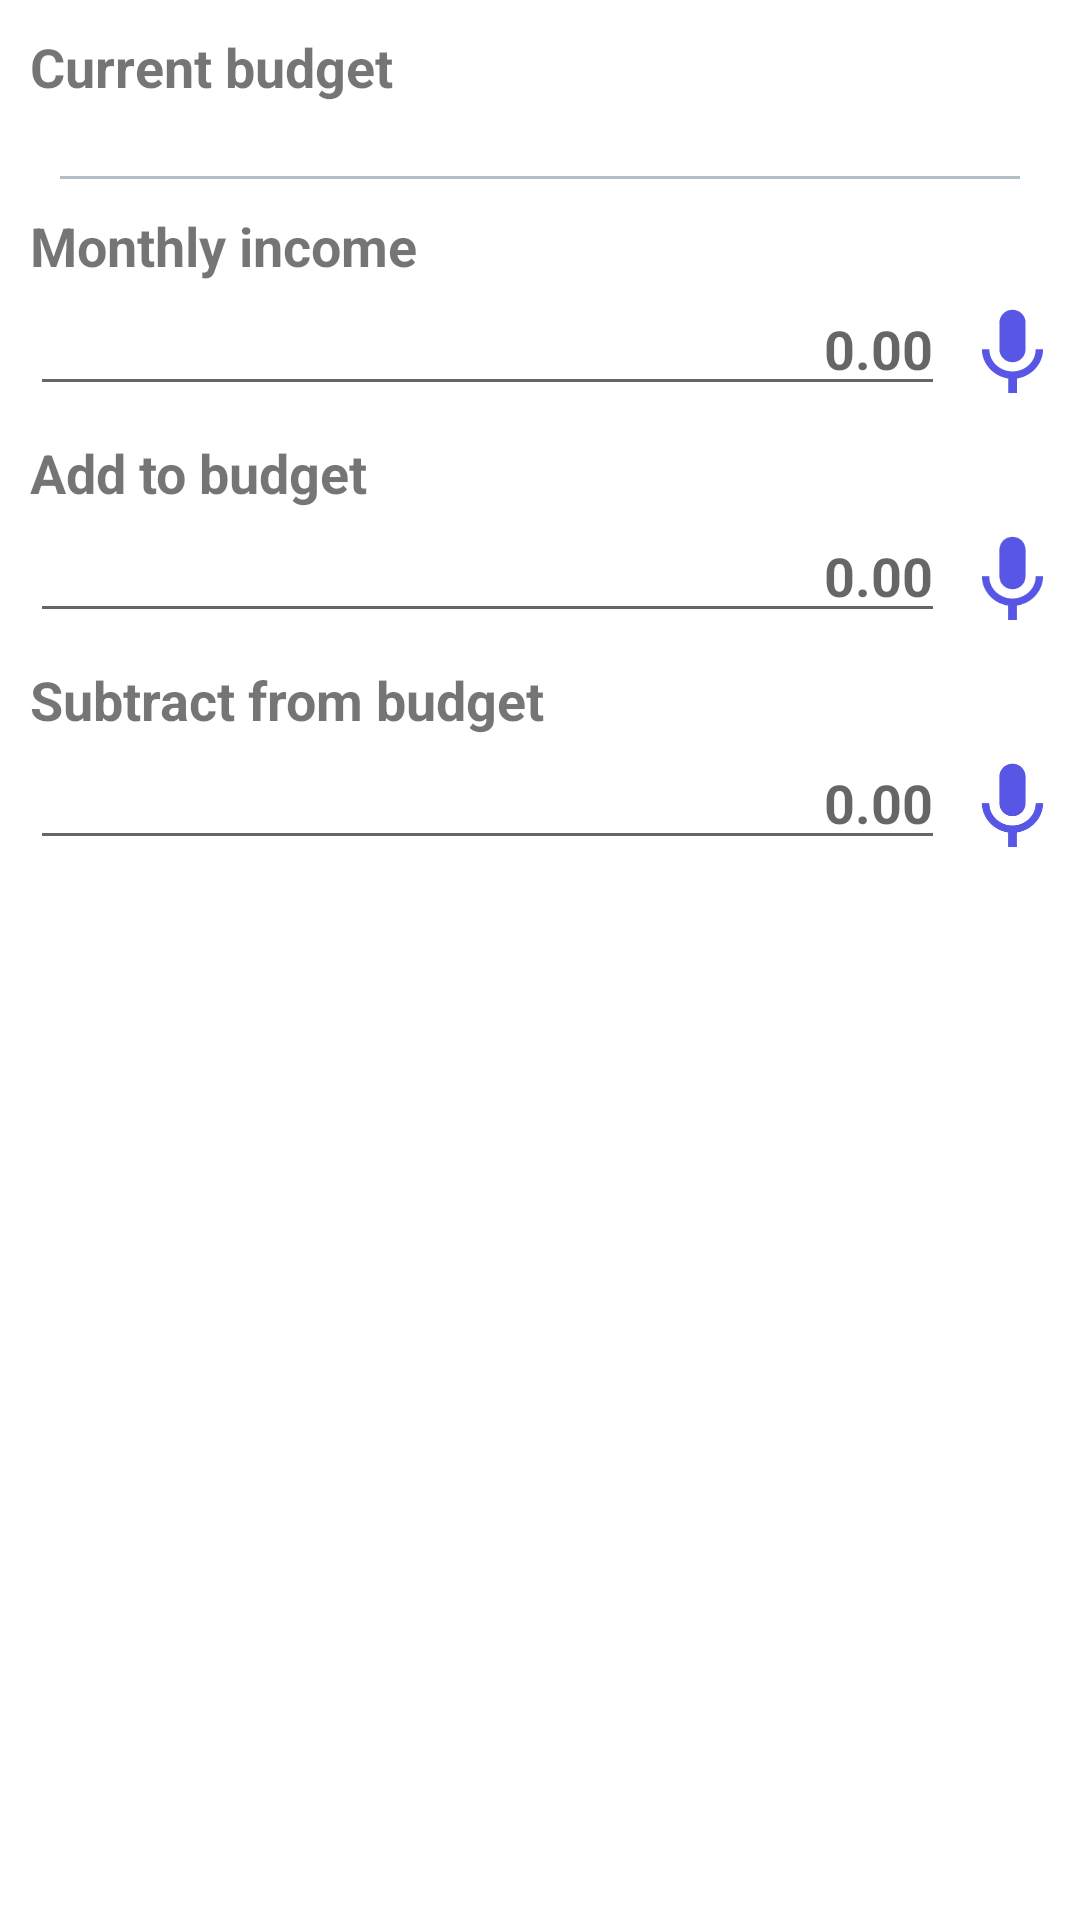

Screen size 1080w x 1920h. Icon name, then its center in pixels as [x,y]:
mic: [1012,351], [1012,578], [1012,805]
